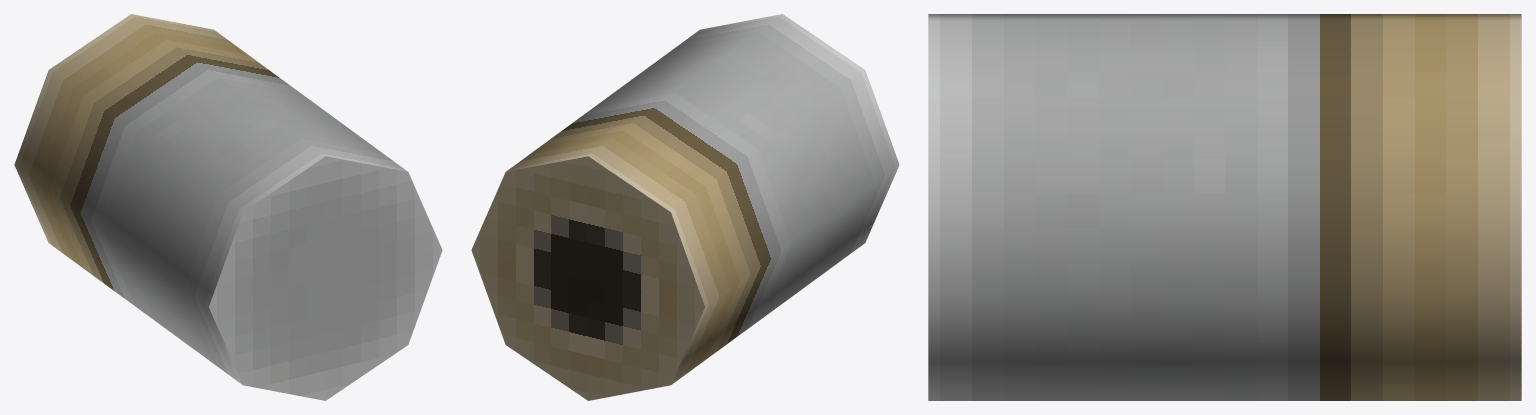
The model's file is Eridani_Antenna_2_Base.obj.
3 views of the same model, side by side, from view 1: azimuth 30°, elevation 25°; view 2: azimuth 150°, elevation 25°; view 3: azimuth 270°, elevation 25° (orthographic). The views are drawn at different scales.
Parts seen in each view (by area): view 1: Eridani_Antenna_2_Base; view 2: Eridani_Antenna_2_Base; view 3: Eridani_Antenna_2_Base.
Part boxes in pixels (bbox=[...]): Eridani_Antenna_2_Base: bbox=[14, 14, 442, 400]; Eridani_Antenna_2_Base: bbox=[471, 14, 899, 400]; Eridani_Antenna_2_Base: bbox=[928, 14, 1521, 400].
Bounding box in the file's own units: 0.0625 × 0.0625 × 0.09.
